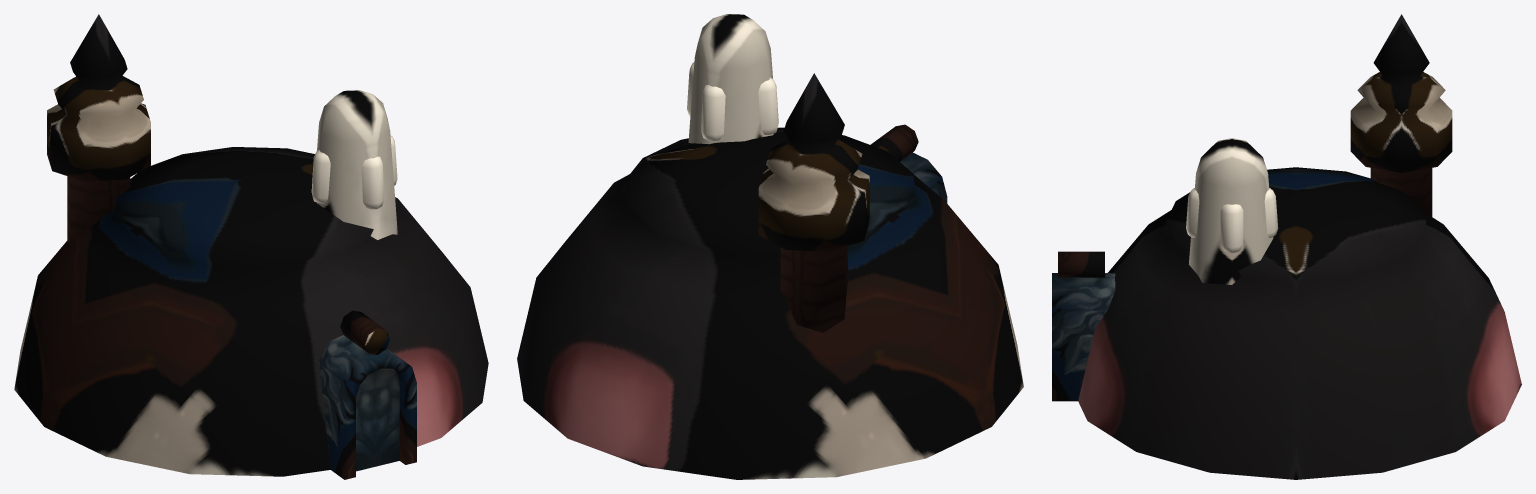
The picture shows the model from 3 angles, left to right: view 1: azimuth 30°, elevation 25°; view 2: azimuth 150°, elevation 25°; view 3: azimuth 270°, elevation 25°; orthographic projection. The views are drawn at different scales.
Parts seen in each view (by area): view 1: 830001_3; view 2: 830001_3; view 3: 830001_3.
Boxes of the visible parts, box(x1,y1,x2,y2) form: 830001_3: box(14, 14, 488, 479); 830001_3: box(517, 14, 1023, 479); 830001_3: box(1052, 14, 1521, 479).
Size of the model in its own units: 491 by 391 by 511.
